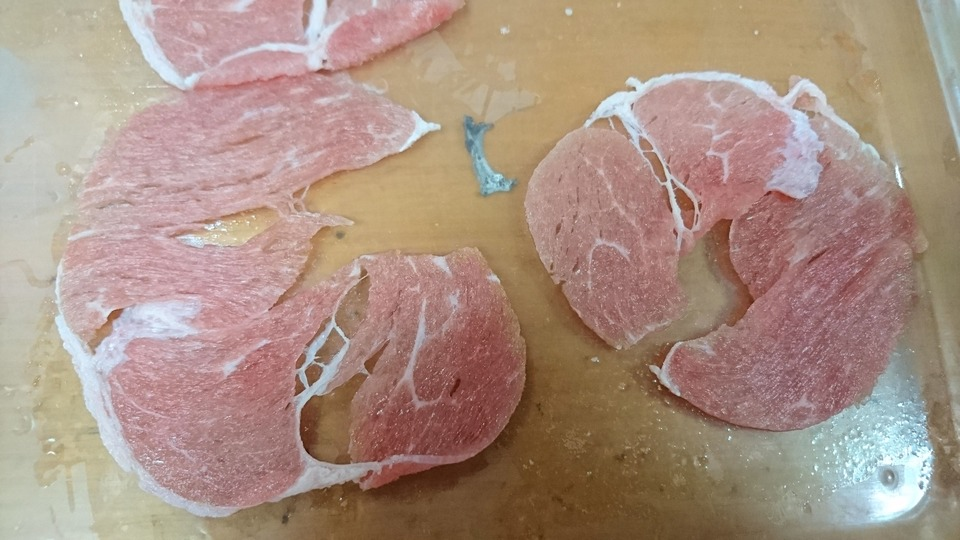restructured meat: (54, 81, 514, 512), (527, 79, 919, 436), (119, 1, 450, 78)
